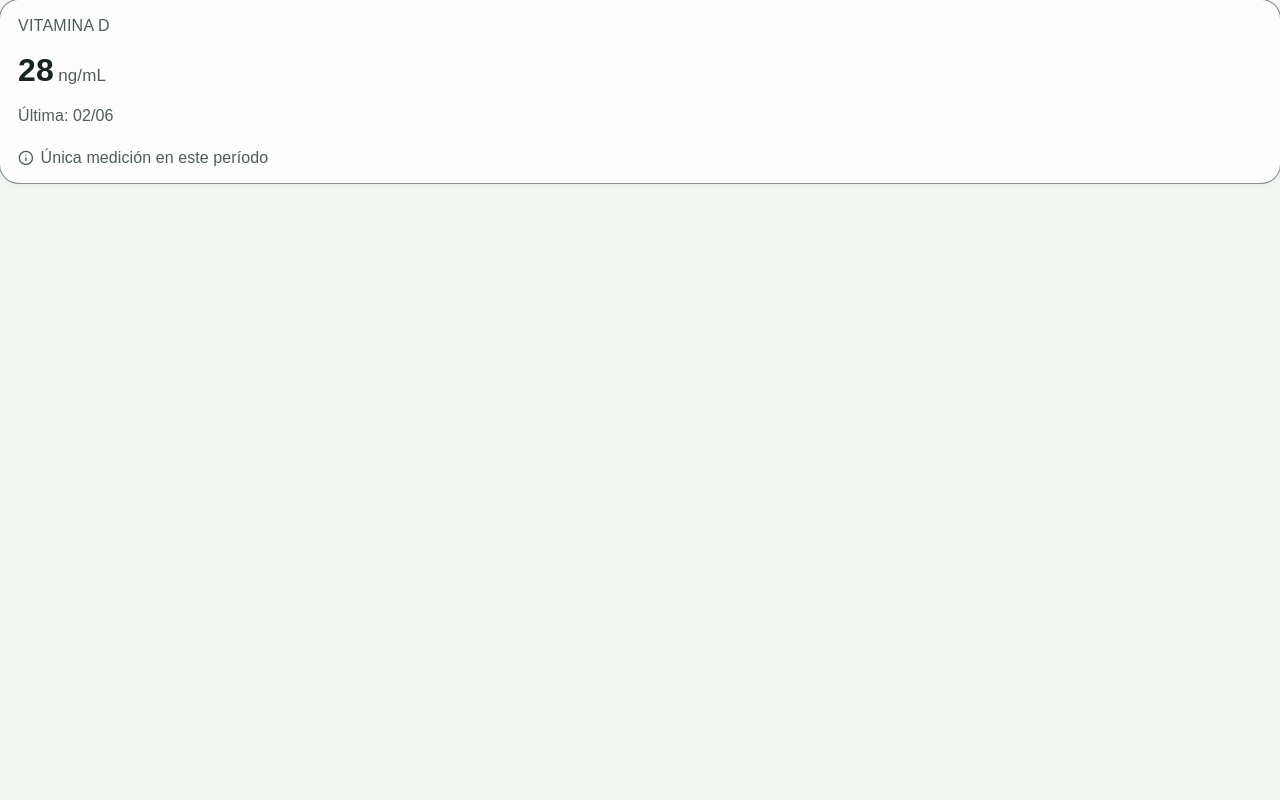
it: DialogoDetalleMetrica › única medición: la tarjeta y el diálogo lo dicen con claridad, sin insinuar una tendencia
Check: the text "Única medición en este período" is shown, box [40, 146, 268, 170]
Click the button with aria-label "ver todas las mediciones de vitamina d". click: (640, 92)
box: [0, 0, 1279, 183]
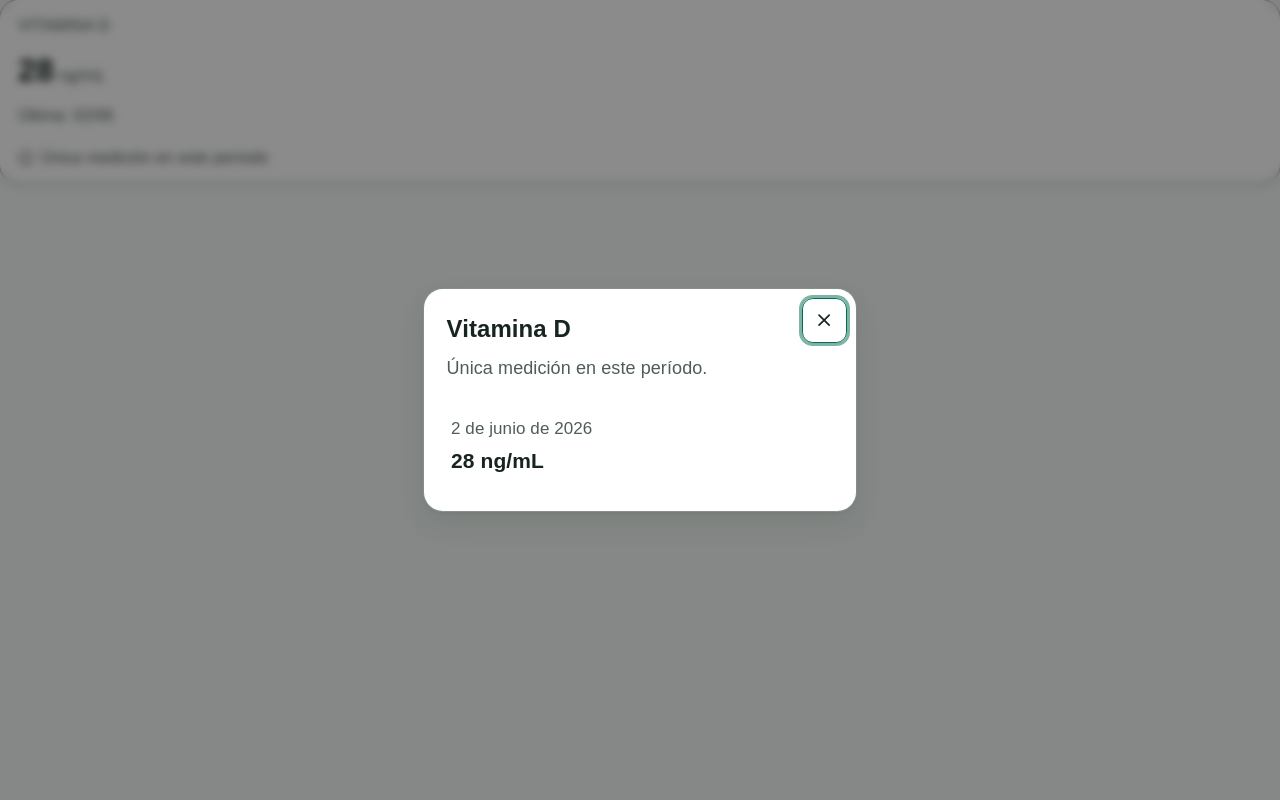
Check: the dialog shows "Única medición en este período", box [446, 358, 708, 378]
